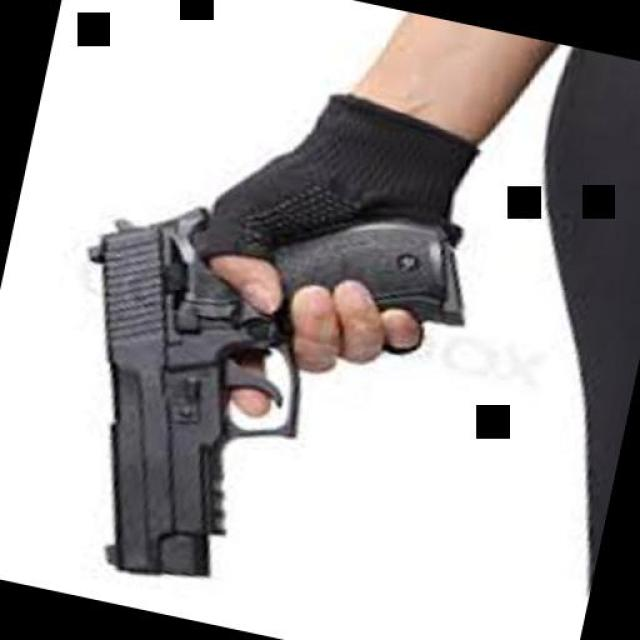gun: (16, 147, 482, 628)
